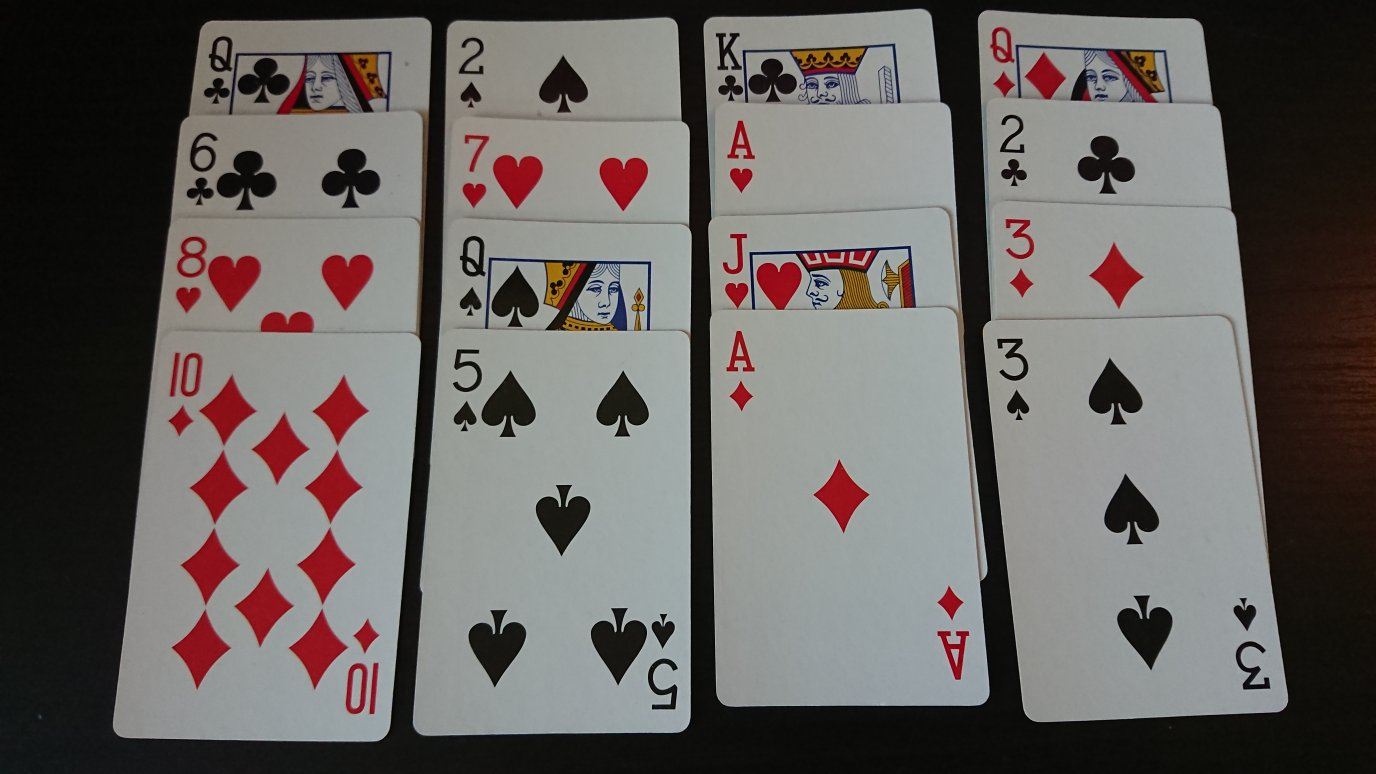10D: (164, 347, 206, 439)
2C: (997, 112, 1030, 189)
2S: (455, 32, 489, 113)
3D: (1001, 216, 1037, 300)
3S: (992, 334, 1033, 425)
5S: (447, 343, 486, 436)
6C: (183, 129, 221, 212)
7H: (457, 129, 494, 211)
8H: (171, 230, 210, 315)
AD: (722, 326, 759, 415)
AH: (724, 115, 757, 198)
JH: (717, 227, 753, 311)
KC: (714, 29, 744, 103)
QC: (200, 32, 237, 108)
QD: (986, 24, 1018, 97)
QS: (454, 231, 490, 320)
